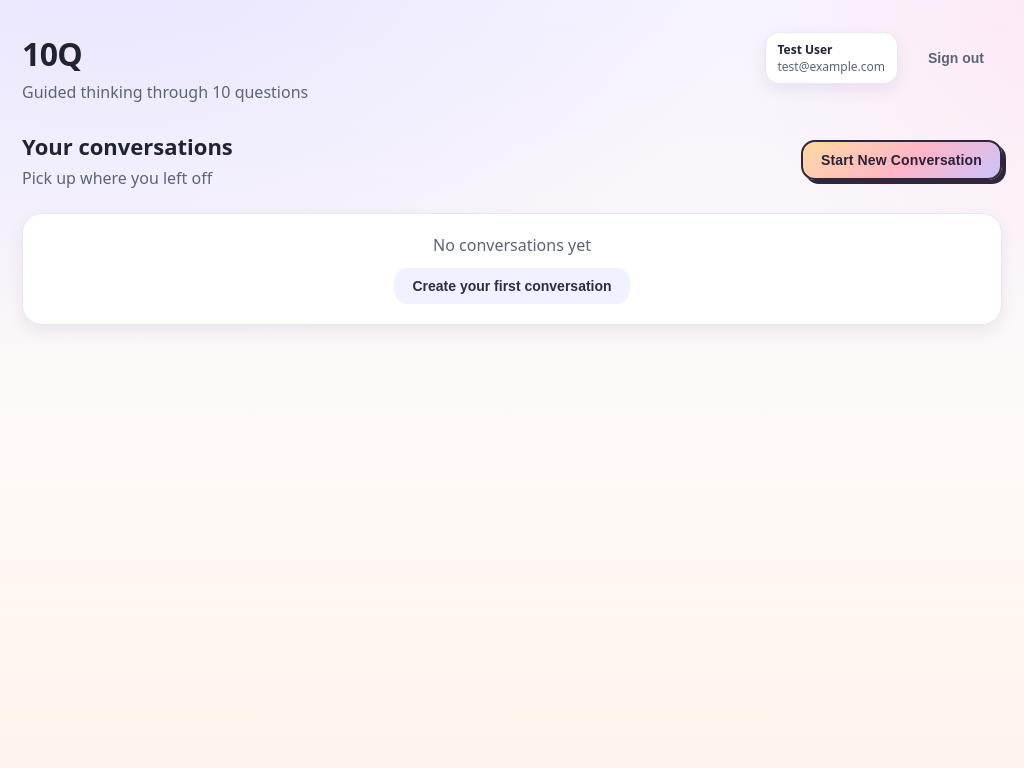
Test case: Dashboard › new conversation modal › shows an error when conversation creation fails
Click the button "Start New Conversation" at (902, 160), box [801,140,1002,180]
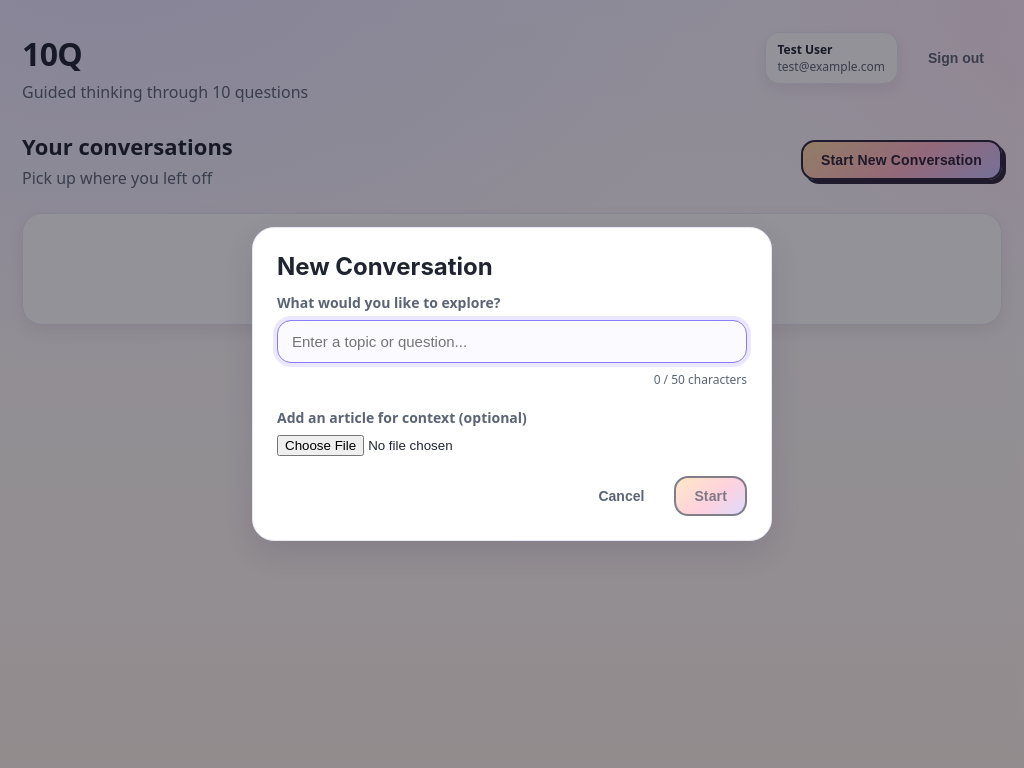
Type "Some title" into the field with placeholder "Enter a topic or question..." at (512, 342), box [277,320,747,363]
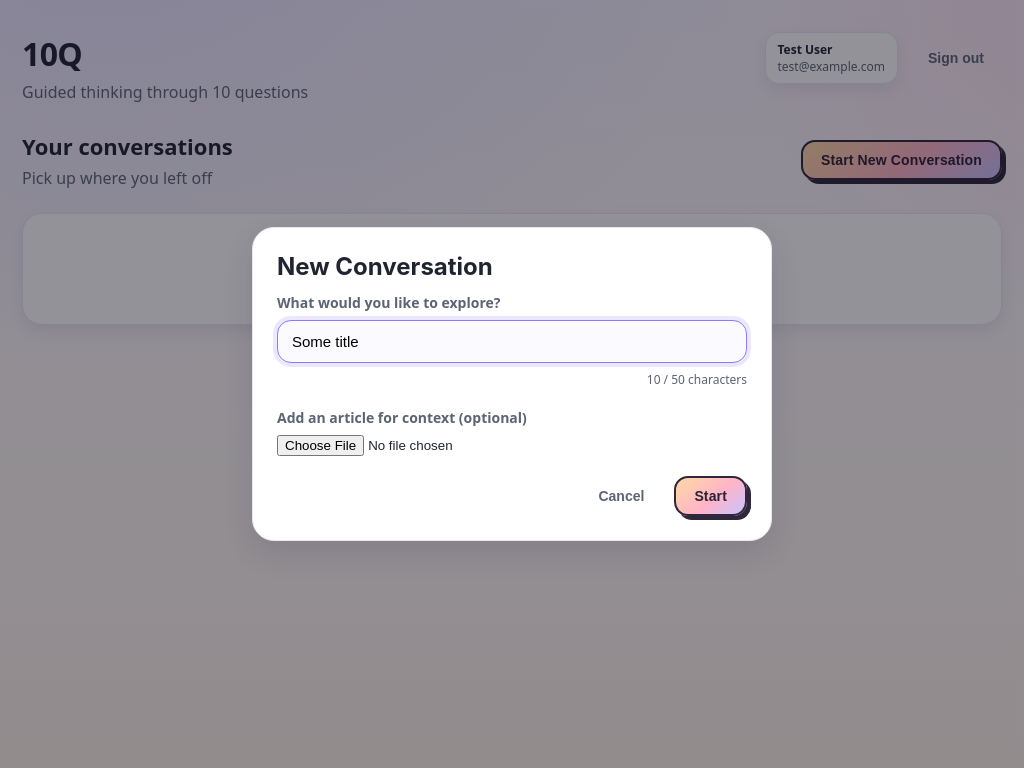
Click the button "Start" at (711, 496), box [674,476,747,516]
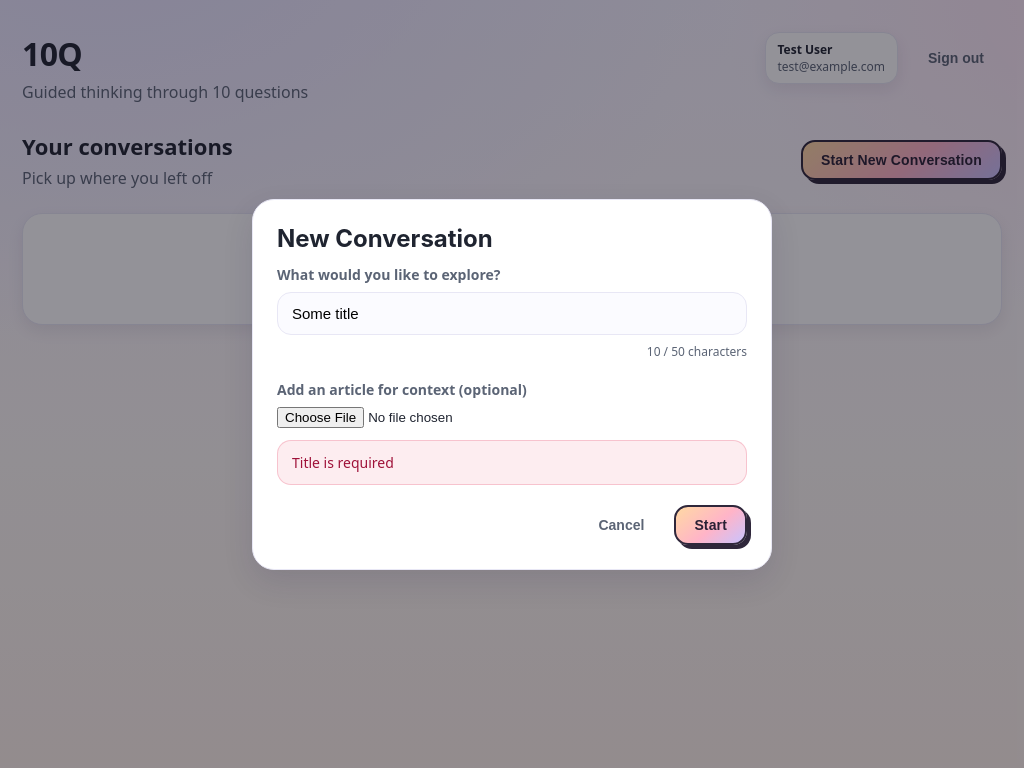
expect the button "Start New Conversation" is shown: met, box [801,140,1002,180]
expect the text "Title is required" is shown: met, box [277,440,747,484]
